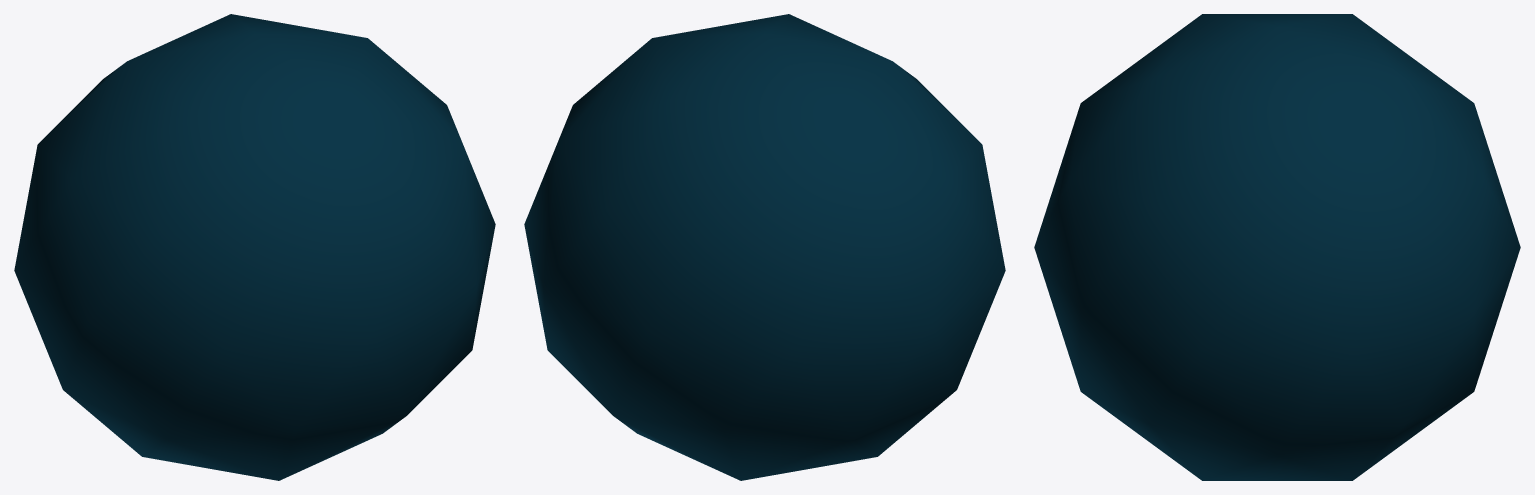
File: ShotGunBullet.fbx
3 views of the same model, side by side, from view 1: azimuth 30°, elevation 25°; view 2: azimuth 150°, elevation 25°; view 3: azimuth 270°, elevation 25° (orthographic). The views are drawn at different scales.
Visible parts, largest first — view 1: ShotGunBullet; view 2: ShotGunBullet; view 3: ShotGunBullet.
Part boxes in pixels (bbox=[...]): ShotGunBullet: bbox=[14, 14, 495, 480]; ShotGunBullet: bbox=[524, 14, 1005, 480]; ShotGunBullet: bbox=[1034, 14, 1520, 480].
Size of what is drawn, in the model's own units: 2 by 2 by 2.
